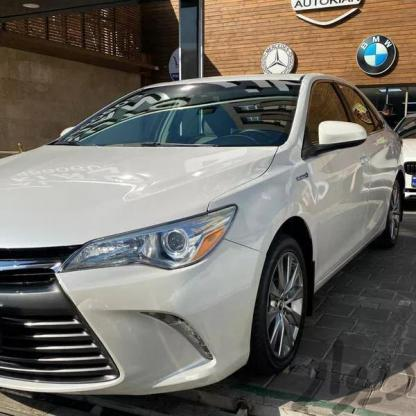Car: (0, 70, 416, 416), (373, 118, 416, 245)
